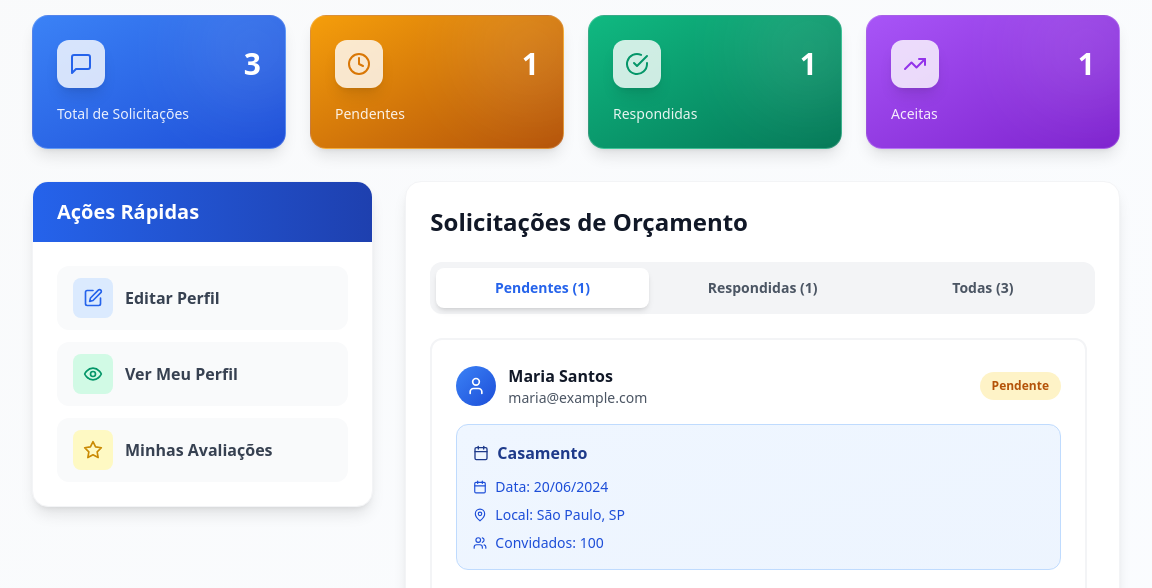
Test: SupplierDashboard › Quote Display › should display quote status badge correctly
Expected: the text "Pendente" is shown, [980,372,1061,400]
Click the button "Respondidas (1)". click: [763, 288]
box: [656,268,869,308]
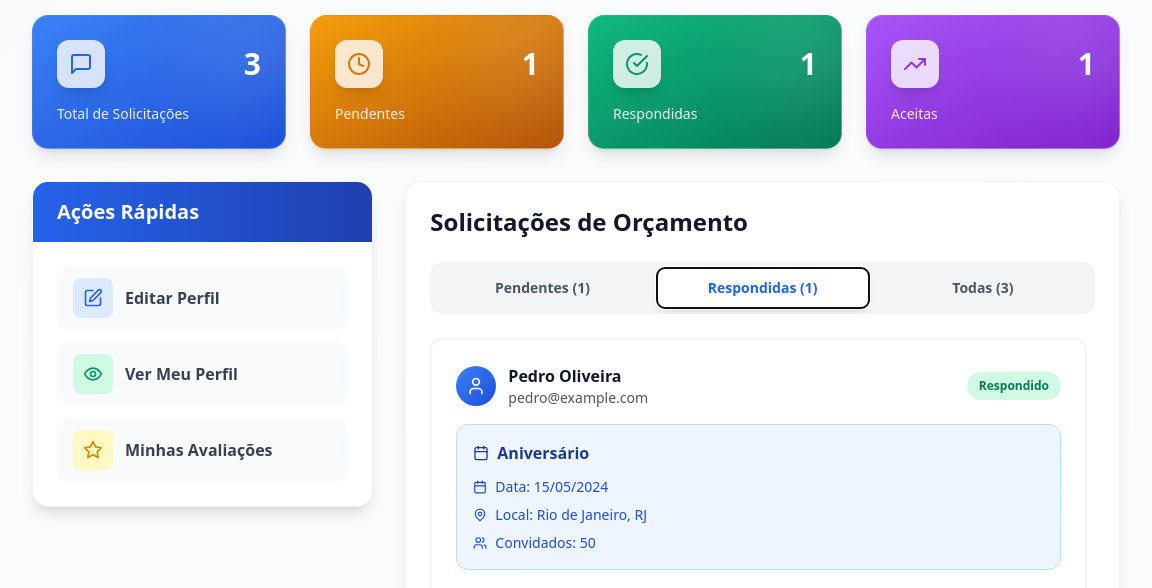
Now the text "Respondido" is shown, box [967,372,1061,400]
Click the button "Todas (3)". click: [983, 288]
box: [877,268,1089,308]
(page scrolled)
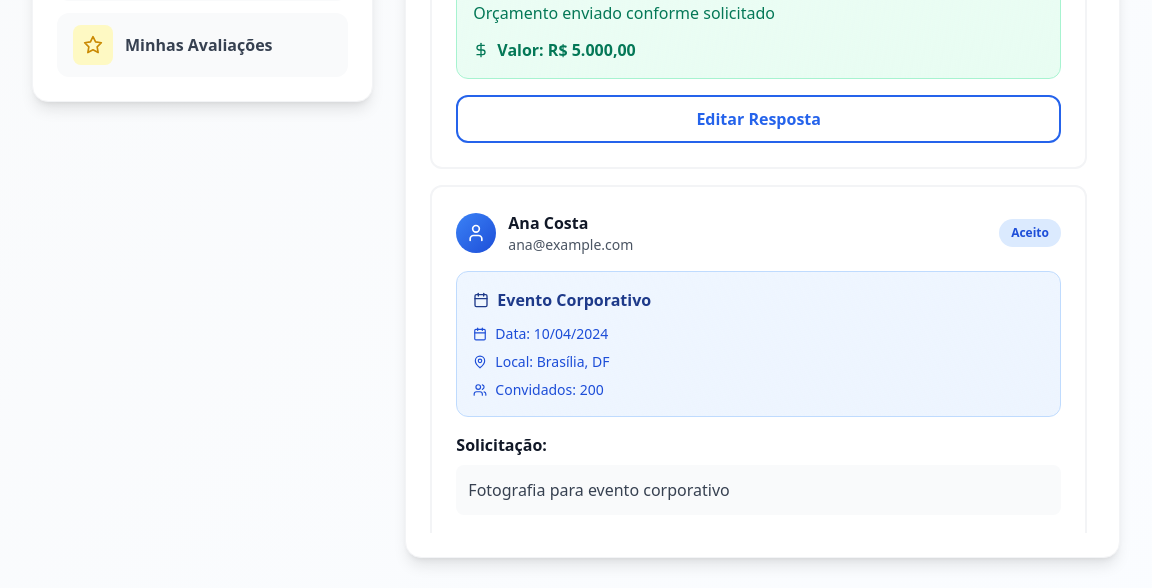
Now the text "Aceito" is shown, box [999,219,1061,247]
